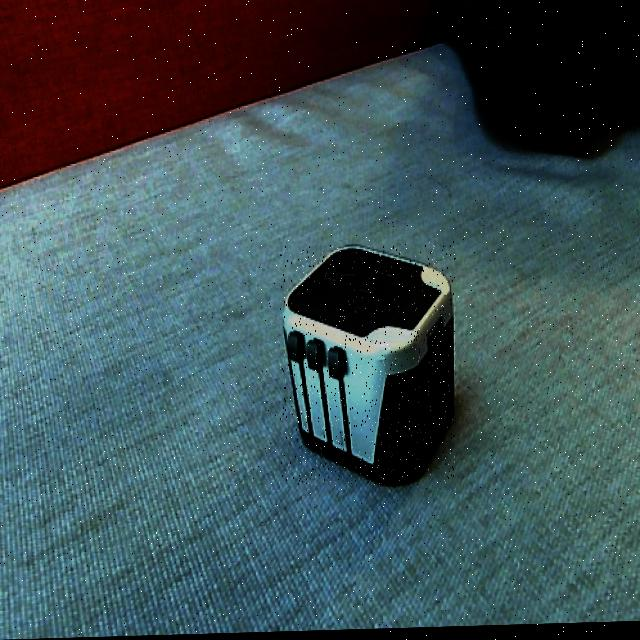adapter: (280, 244, 455, 490)
